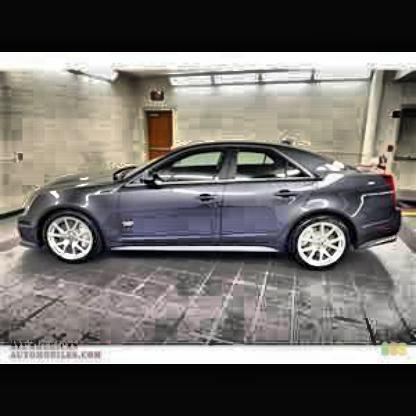Cadillac CTS-V Sedan 2012: (22, 141, 403, 271)
